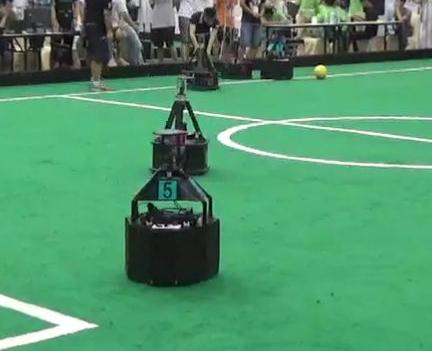robot: (123, 130, 222, 286), (150, 72, 215, 175)
